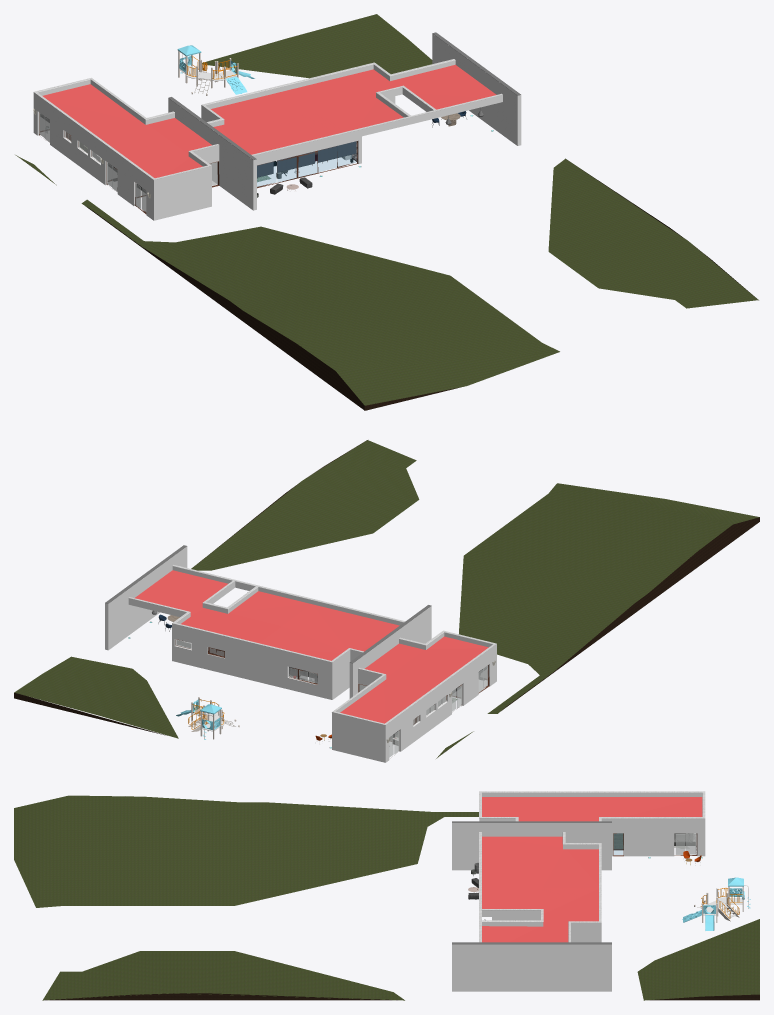
The model's file is casa-de-campo--001-blo-a-arq-var-v1.ra.glb.
3 renders of one model, top to bottom at view 1: azimuth 30°, elevation 25°; view 2: azimuth 150°, elevation 25°; view 3: azimuth 270°, elevation 25°, orthographic. The views are drawn at different scales.
Visible parts, largest first — view 1: Surface_292733, Basic_Roof_-_BIM_LOADING-Generic_-_125mm_292929, Basic_Wall_-_BIM_LOADING-Muro_01_272126, Basic_Wall_-_BIM_LOADING-Muro_Enchapado_01_272040, Basic_Wall_-_BIM_LOADING-Pretil_293935_·_1, BIM_LOADING-Fixed_-_BIM_LOADING-HABITACIÓN_1_-_0915_x_2100_4, BIM_LOADING-Commerical_Playground_Set_2178_811987, BIM_LOADING-Fixed_-_BIM_LOADING-VESTIBULO_250_x_1830mm_28074, BIM_LOADING-Tela_de_Projeção_Elétrica_106_-_BIM_LOADING-Perc, Basic_Wall_-_BIM_LOADING-Muro_Enchapado_01_272040_·_1; view 2: Surface_292733, Basic_Roof_-_BIM_LOADING-Generic_-_125mm_292929, Basic_Wall_-_BIM_LOADING-Muro_01_272126, Basic_Wall_-_BIM_LOADING-Muro_Enchapado_01_272040, Basic_Wall_-_BIM_LOADING-Pretil_293935_·_1, BIM_LOADING-Fixed_-_BIM_LOADING-VESTIBULO_250_x_1830mm_28074, BIM_LOADING-Commerical_Playground_Set_2178_811987, Basic_Wall_-_BIM_LOADING-Muro_Enchapado_01_272040_·_1; view 3: Surface_292733, Basic_Roof_-_BIM_LOADING-Generic_-_125mm_292929, Basic_Wall_-_BIM_LOADING-Muro_Enchapado_01_272040, Basic_Wall_-_BIM_LOADING-Muro_01_272126, Basic_Wall_-_BIM_LOADING-Pretil_293935_·_1, BIM_LOADING-Commerical_Playground_Set_2178_811987, Basic_Wall_-_BIM_LOADING-Muro_Enchapado_01_272040_·_1, BIM_LOADING-Fixed_-_BIM_LOADING-VESTIBULO_250_x_1830mm_28074.
Boxes of the visible parts, left/top/right/bottom form: Surface_292733: left=15, top=14, right=758, bottom=410; Basic_Roof_-_BIM_LOADING-Generic_-_125mm_292929: left=42, top=64, right=496, bottom=178; Basic_Wall_-_BIM_LOADING-Muro_01_272126: left=33, top=60, right=502, bottom=220; Basic_Wall_-_BIM_LOADING-Muro_Enchapado_01_272040: left=168, top=33, right=521, bottom=210; Basic_Wall_-_BIM_LOADING-Pretil_293935_·_1: left=34, top=59, right=502, bottom=179; BIM_LOADING-Fixed_-_BIM_LOADING-HABITACIÓN_1_-_0915_x_2100_4: left=257, top=142, right=355, bottom=186; BIM_LOADING-Commerical_Playground_Set_2178_811987: left=177, top=45, right=254, bottom=95; BIM_LOADING-Fixed_-_BIM_LOADING-VESTIBULO_250_x_1830mm_28074: left=39, top=112, right=358, bottom=213; BIM_LOADING-Tela_de_Projeção_Elétrica_106_-_BIM_LOADING-Perc: left=257, top=141, right=356, bottom=177; Basic_Wall_-_BIM_LOADING-Muro_Enchapado_01_272040_·_1: left=168, top=32, right=520, bottom=159; Surface_292733: left=14, top=440, right=759, bottom=758; Basic_Roof_-_BIM_LOADING-Generic_-_125mm_292929: left=134, top=570, right=488, bottom=723; Basic_Wall_-_BIM_LOADING-Muro_01_272126: left=128, top=566, right=496, bottom=762; Basic_Wall_-_BIM_LOADING-Muro_Enchapado_01_272040: left=105, top=546, right=431, bottom=698; Basic_Wall_-_BIM_LOADING-Pretil_293935_·_1: left=129, top=565, right=496, bottom=725; BIM_LOADING-Fixed_-_BIM_LOADING-VESTIBULO_250_x_1830mm_28074: left=175, top=639, right=489, bottom=757; BIM_LOADING-Commerical_Playground_Set_2178_811987: left=176, top=697, right=239, bottom=739; Basic_Wall_-_BIM_LOADING-Muro_Enchapado_01_272040_·_1: left=105, top=545, right=431, bottom=663; Surface_292733: left=14, top=795, right=759, bottom=1000; Basic_Roof_-_BIM_LOADING-Generic_-_125mm_292929: left=482, top=797, right=702, bottom=942; Basic_Wall_-_BIM_LOADING-Muro_Enchapado_01_272040: left=452, top=823, right=611, bottom=991; Basic_Wall_-_BIM_LOADING-Muro_01_272126: left=479, top=792, right=705, bottom=942; Basic_Wall_-_BIM_LOADING-Pretil_293935_·_1: left=479, top=791, right=705, bottom=942; BIM_LOADING-Commerical_Playground_Set_2178_811987: left=682, top=877, right=750, bottom=930; Basic_Wall_-_BIM_LOADING-Muro_Enchapado_01_272040_·_1: left=452, top=821, right=611, bottom=944; BIM_LOADING-Fixed_-_BIM_LOADING-VESTIBULO_250_x_1830mm_28074: left=613, top=833, right=697, bottom=856.
Bounding box in the file's own units: 38.2 × 4.52 × 64.22.
Materials: 174 (33 with a texture image).
